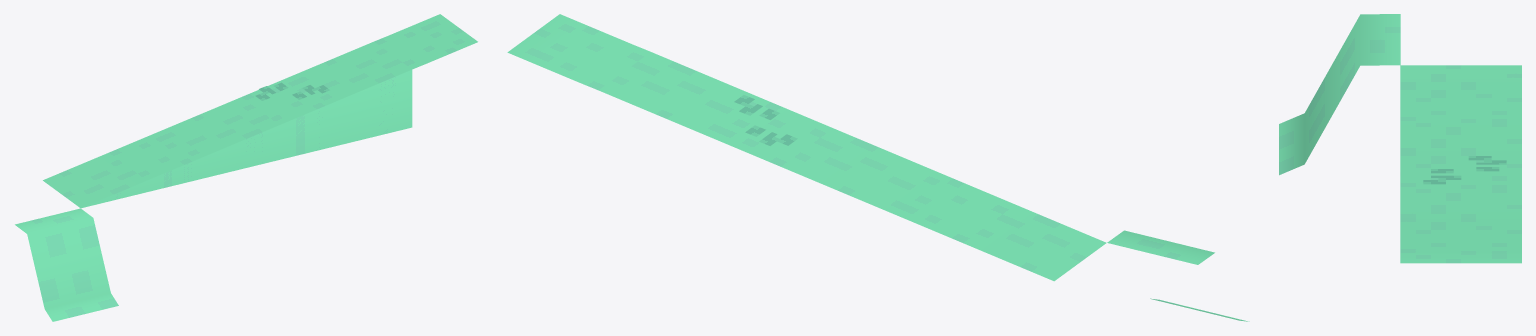
The picture shows the model from 3 angles, left to right: view 1: azimuth 30°, elevation 25°; view 2: azimuth 150°, elevation 25°; view 3: azimuth 270°, elevation 25°; orthographic projection. The views are drawn at different scales.
Size of the model in its own units: 7 by 2 by 2.
2 materials, 2 textured.
